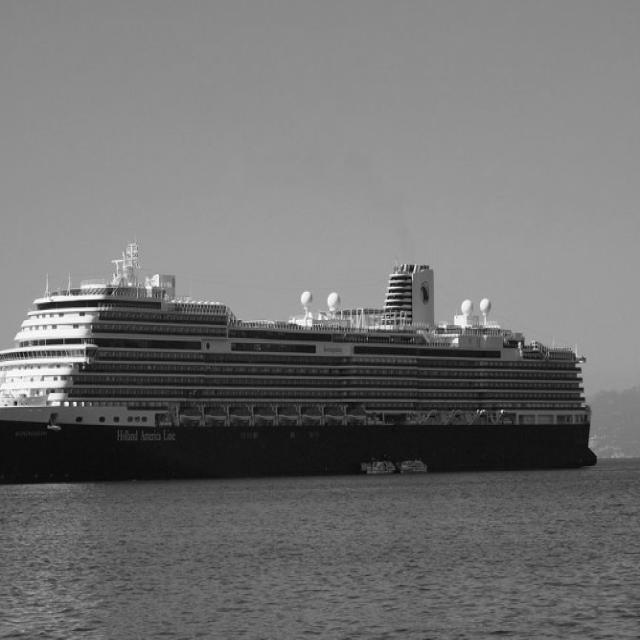cruises: (1, 234, 600, 490)
